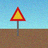sign: (10, 7, 26, 36)
